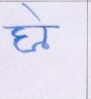o_matra: (36, 13, 52, 49)
